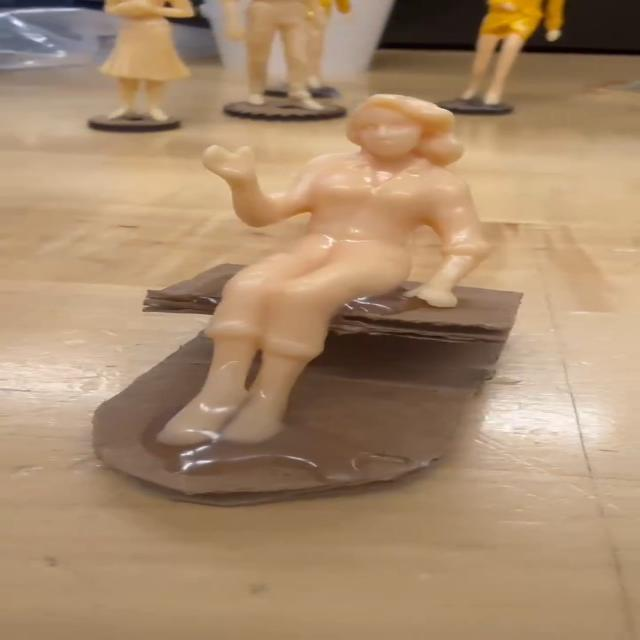Unauthorized: (149, 88, 504, 476)
